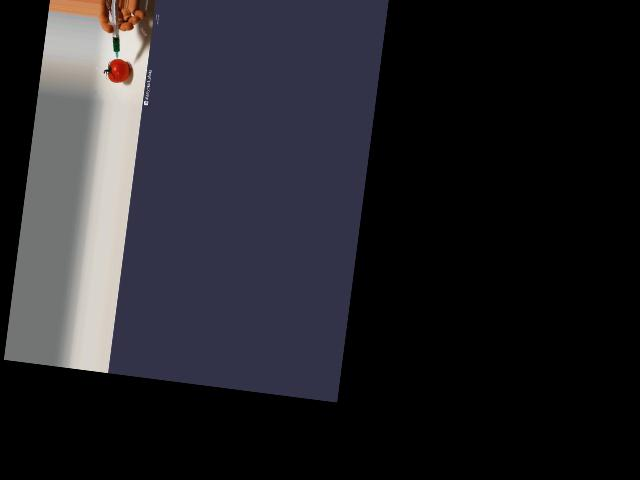tomato: (107, 57, 131, 83)
